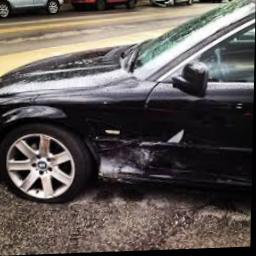Door: (133, 108, 202, 186)
Fender: (71, 122, 136, 183)
